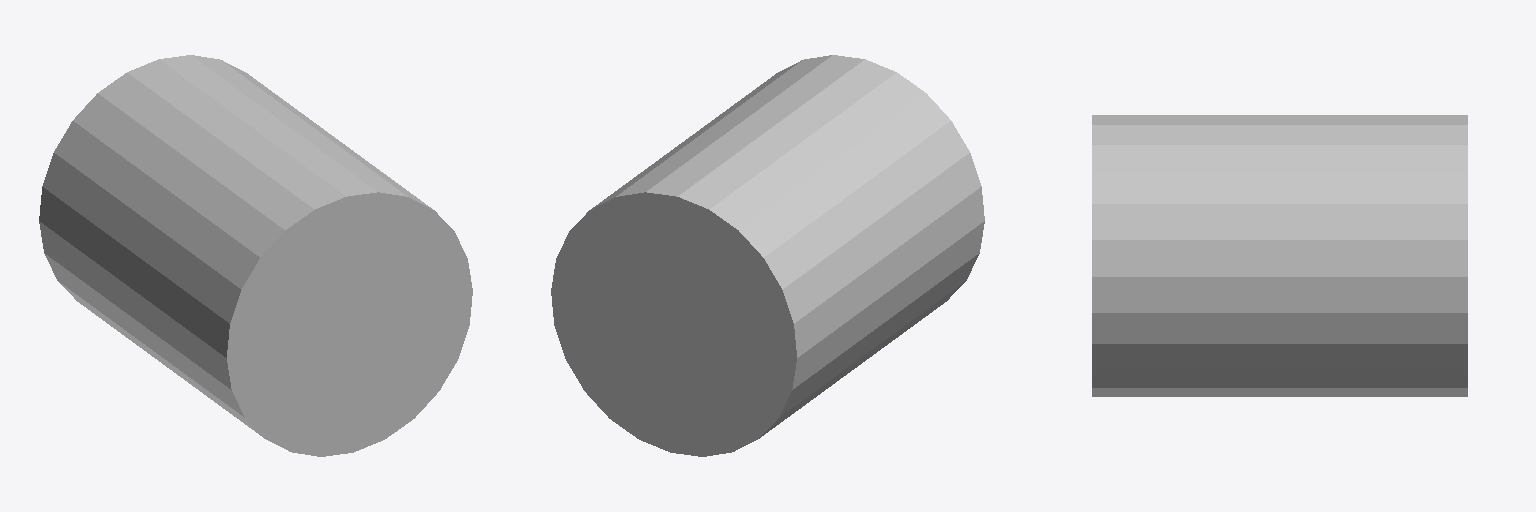
File: cep_centered.obj
3 views of the same model, side by side, from view 1: azimuth 30°, elevation 25°; view 2: azimuth 150°, elevation 25°; view 3: azimuth 270°, elevation 25° (orthographic).
Parts seen in each view (by area): view 1: animacija-SKP-Default_Material; view 2: animacija-SKP-Default_Material; view 3: animacija-SKP-Default_Material.
Part boxes in pixels (bbox=[...]): animacija-SKP-Default_Material: bbox=[39, 55, 472, 456]; animacija-SKP-Default_Material: bbox=[551, 55, 984, 456]; animacija-SKP-Default_Material: bbox=[1092, 115, 1467, 396].
Size of the model in its own units: 0.1439 by 0.1439 by 0.19.